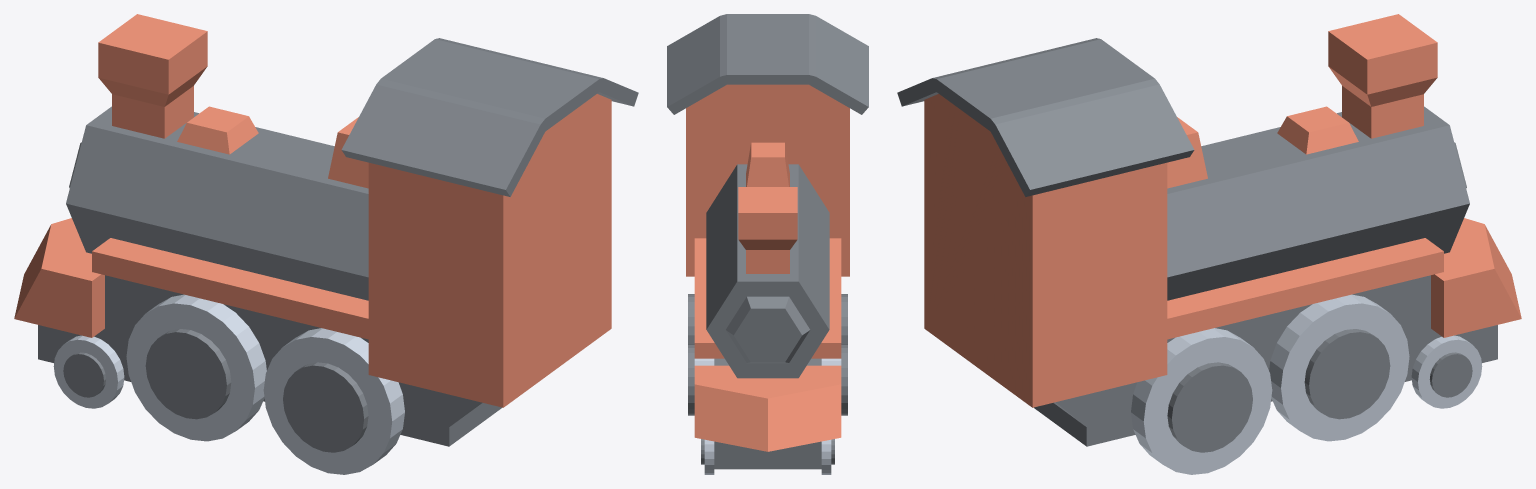
The model's file is train.dae.
3 views of the same model, side by side, from view 1: azimuth 30°, elevation 25°; view 2: azimuth 150°, elevation 25°; view 3: azimuth 270°, elevation 25° (orthographic). The views are drawn at different scales.
Visible parts, largest first — view 1: trainLocomotive; view 2: trainLocomotive; view 3: trainLocomotive.
Boxes of the visible parts, x1,y1,x2,y2 form: trainLocomotive: (14, 14, 638, 474); trainLocomotive: (667, 14, 868, 474); trainLocomotive: (897, 14, 1521, 474).
Size of the model in its own units: 0.5248 by 0.6648 by 0.4543.
